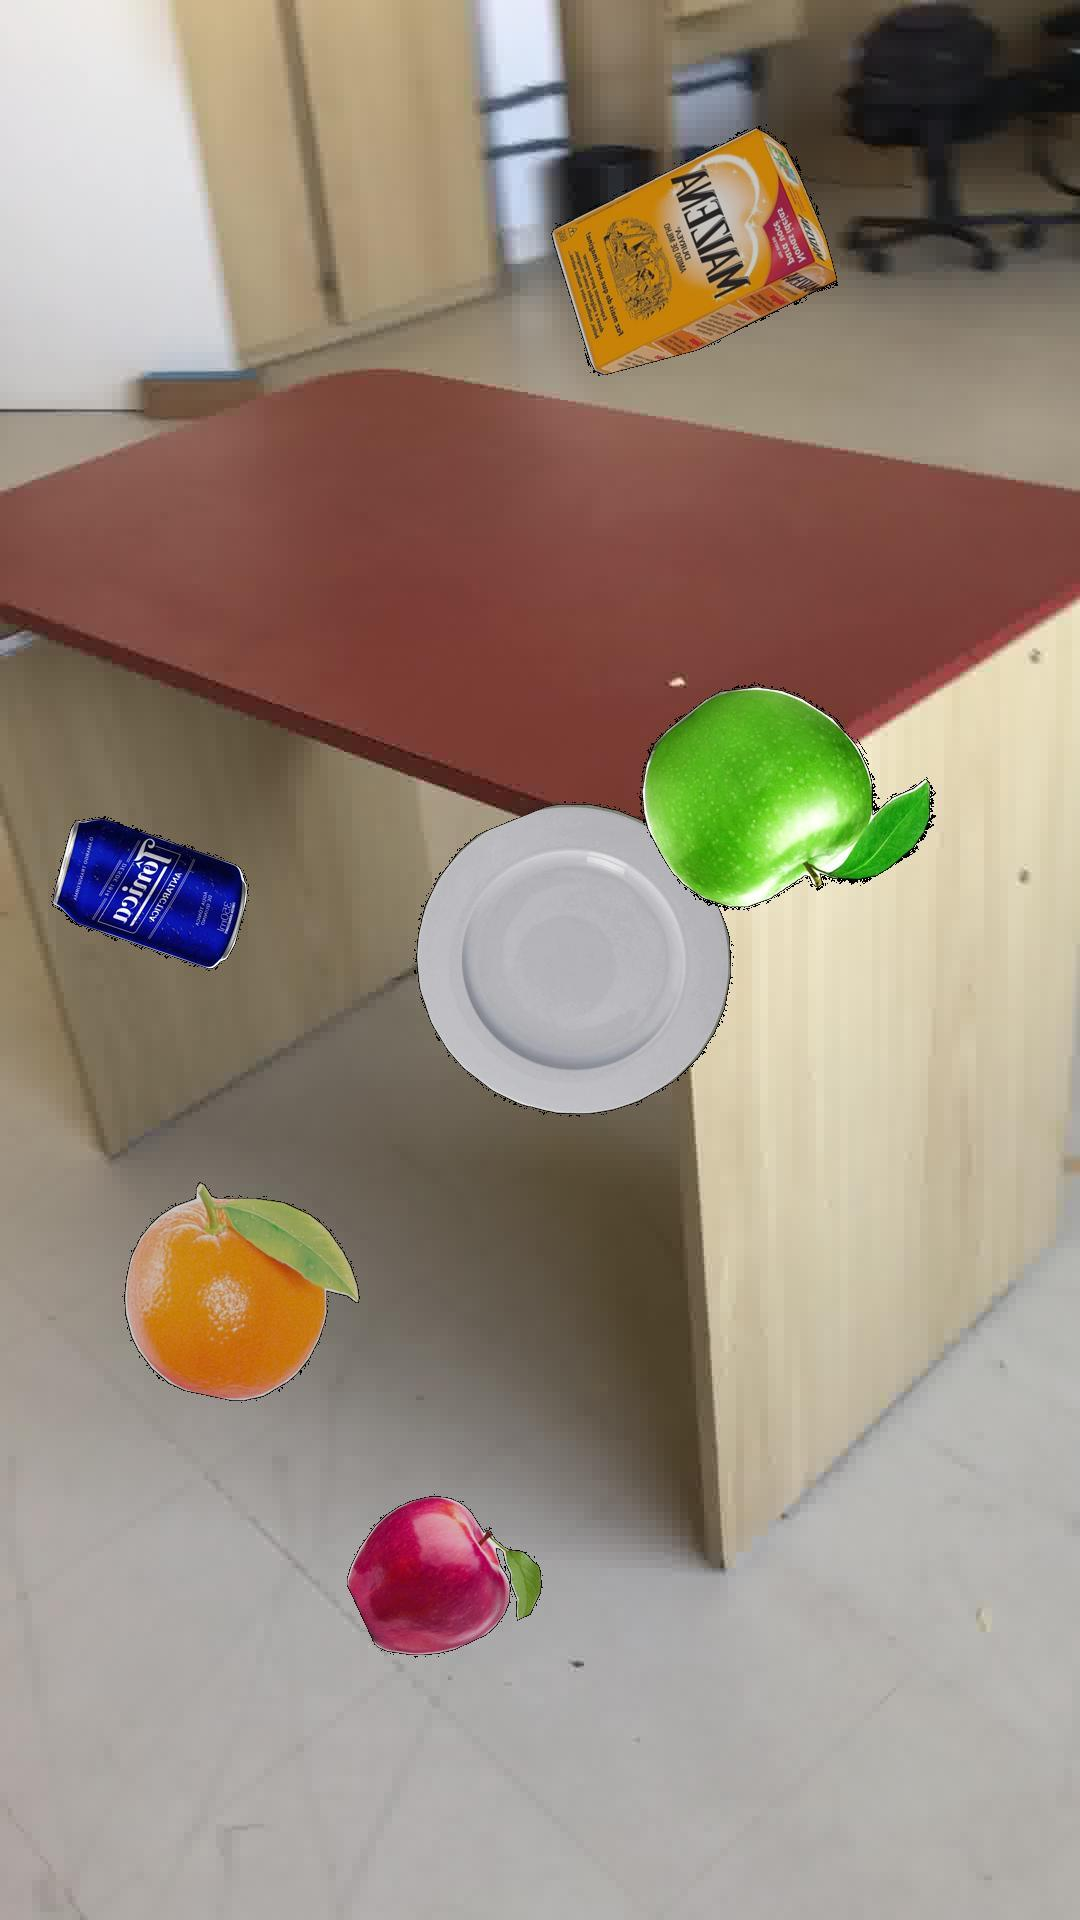apple: (345, 1494, 542, 1654)
green apple: (637, 683, 935, 910)
orange: (123, 1180, 359, 1399)
plate: (414, 803, 732, 1113)
tonic: (50, 815, 247, 968)
